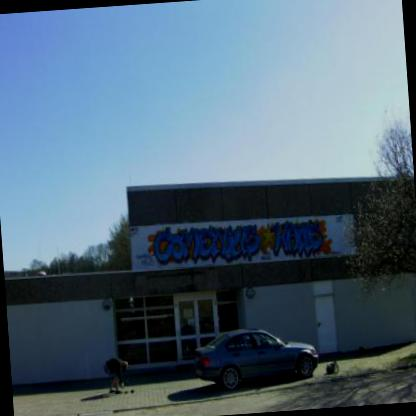car: (191, 322, 320, 394)
